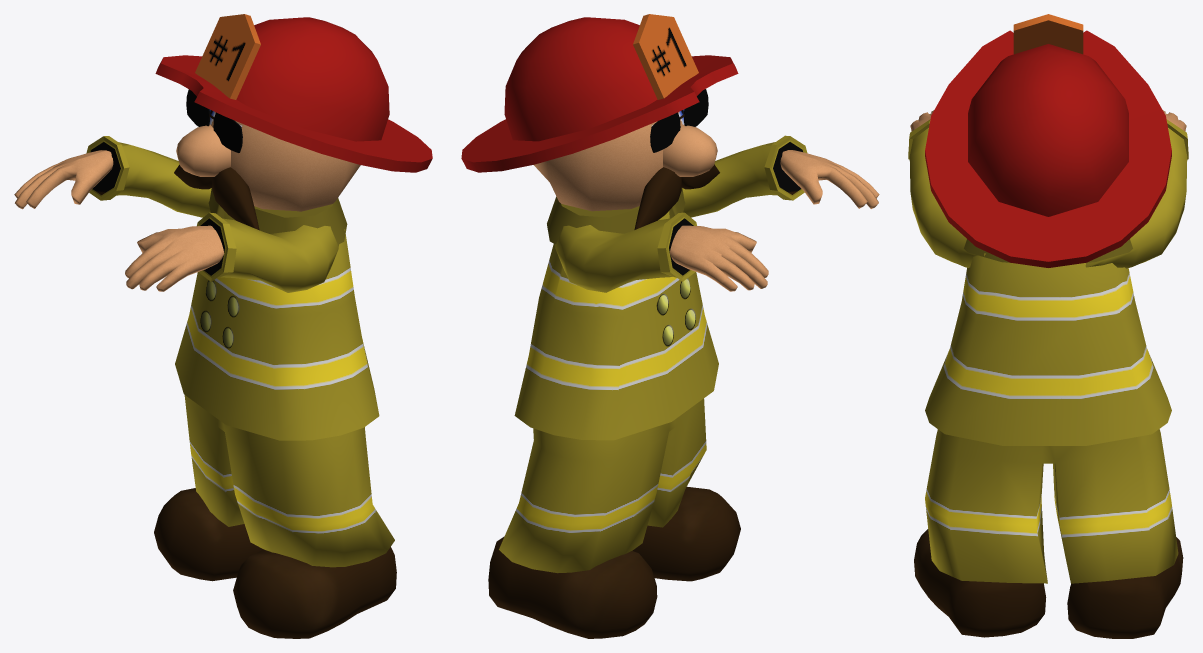
Rendered from FireFighter_pumping01_textured_new.fbx.
3 views of the same model, side by side, from view 1: azimuth 30°, elevation 25°; view 2: azimuth 150°, elevation 25°; view 3: azimuth 270°, elevation 25° (orthographic).
Parts seen in each view (by area): view 1: polySurface544; view 2: polySurface544; view 3: polySurface544.
Part boxes in pixels (left/top/right/bottom): polySurface544: left=14, top=14, right=432, bottom=638; polySurface544: left=461, top=14, right=879, bottom=638; polySurface544: left=908, top=14, right=1188, bottom=638.
Size of the model in its own units: 295 by 469 by 208.
